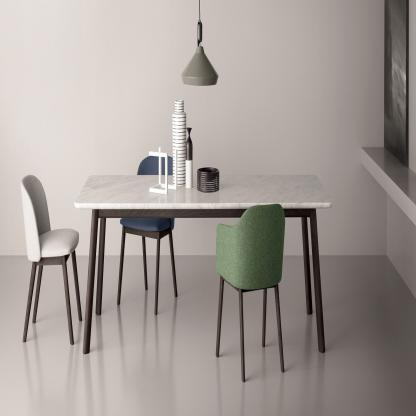chair: (205, 199, 293, 382), (109, 148, 198, 314), (11, 169, 87, 346)
light: (173, 0, 225, 96)
table: (74, 165, 338, 359)
